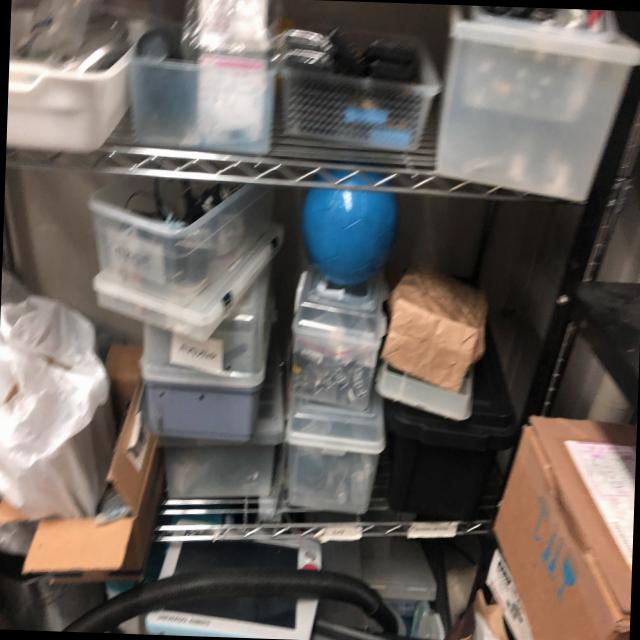blue_ball: (300, 171, 392, 291)
